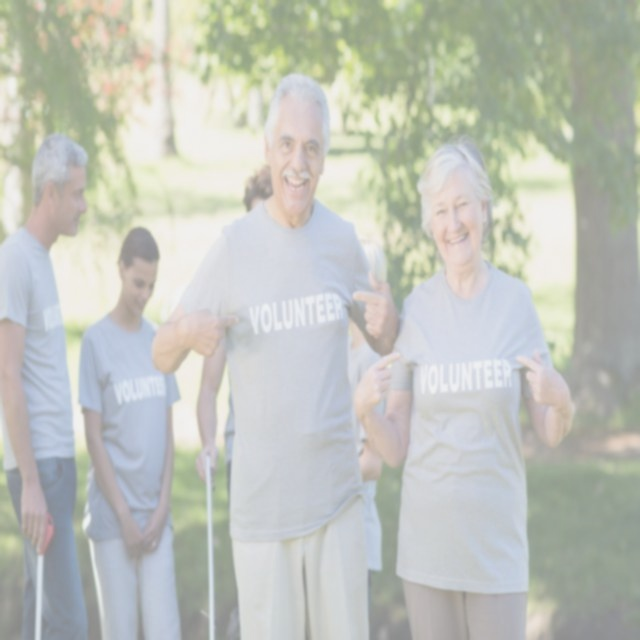pessoa: (148, 68, 398, 640), (352, 140, 574, 640), (0, 135, 91, 640), (76, 220, 182, 640), (194, 163, 274, 522), (346, 333, 386, 639)
